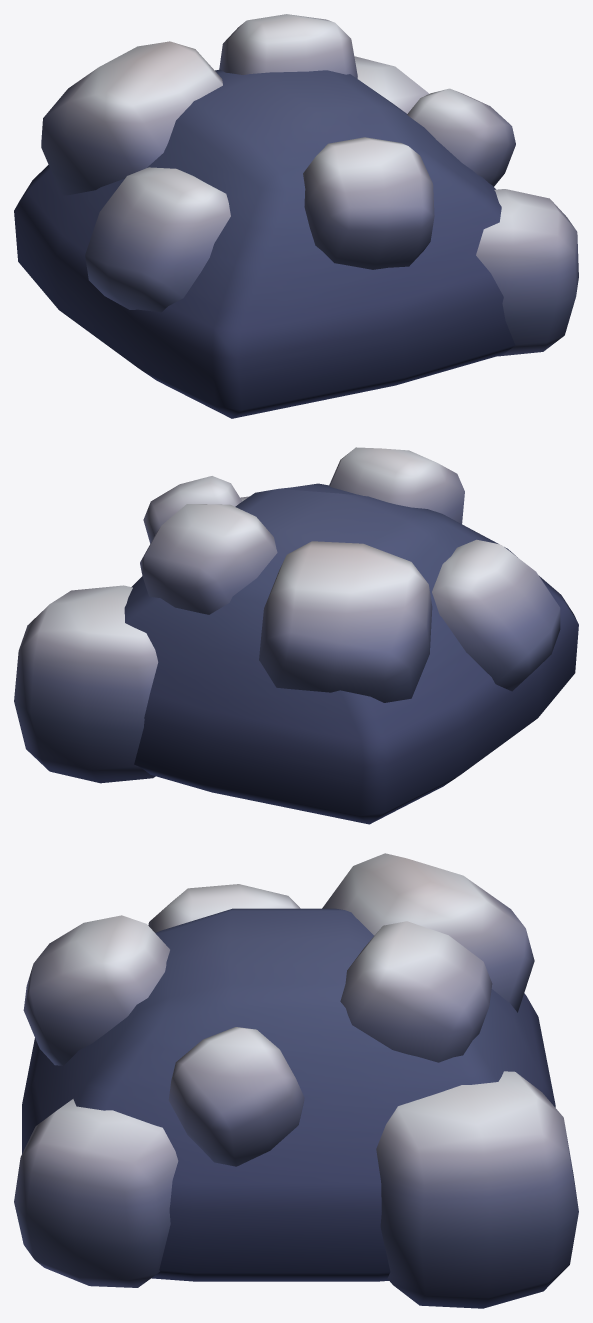
File: block_metal_1_1.fbx
3 renders of one model, top to bottom at view 1: azimuth 30°, elevation 25°; view 2: azimuth 150°, elevation 25°; view 3: azimuth 270°, elevation 25°, orthographic. The views are drawn at different scales.
Visible parts, largest first — view 1: block_metal_1_1; view 2: block_metal_1_1; view 3: block_metal_1_1.
Part boxes in pixels (<box>): block_metal_1_1: <box>14,14,578,418</box>; block_metal_1_1: <box>14,447,578,824</box>; block_metal_1_1: <box>14,853,578,1308</box>.
Bounding box in the file's own units: 124 × 73.23 × 122.
